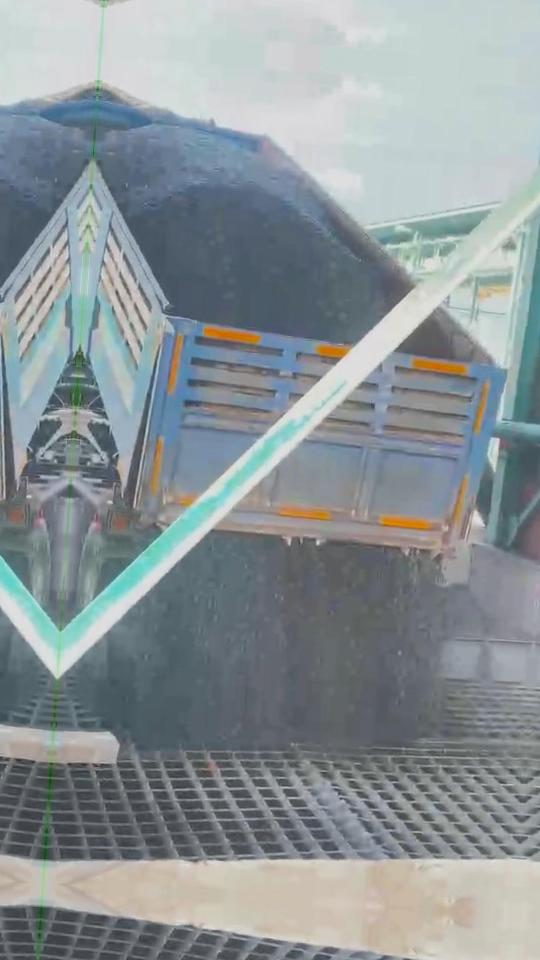gravel: (101, 532, 443, 748), (96, 123, 411, 343), (401, 311, 489, 361)
